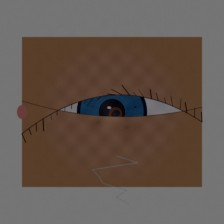foreign_body_visible: (93, 96, 138, 132)
